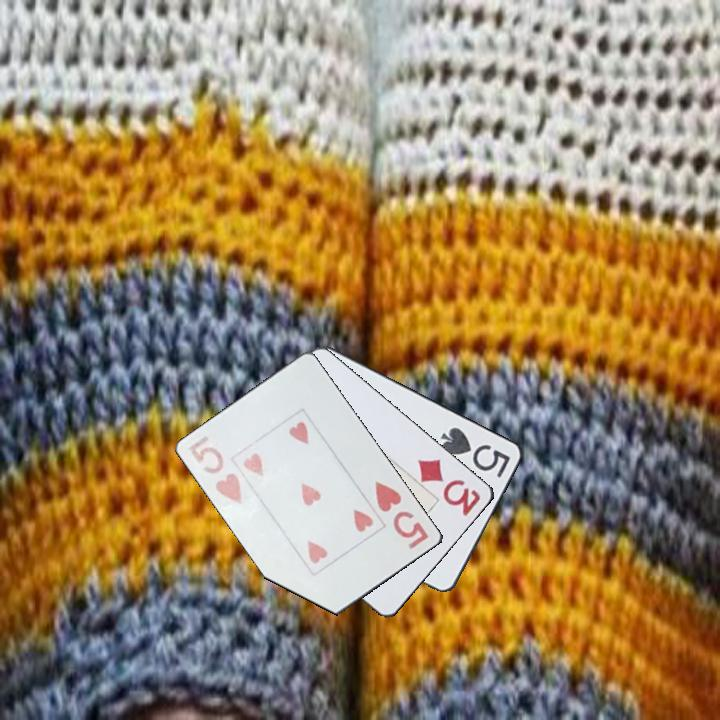3d: (414, 455, 484, 519)
5h: (185, 432, 246, 508), (372, 477, 432, 552)
5s: (437, 423, 514, 481)
